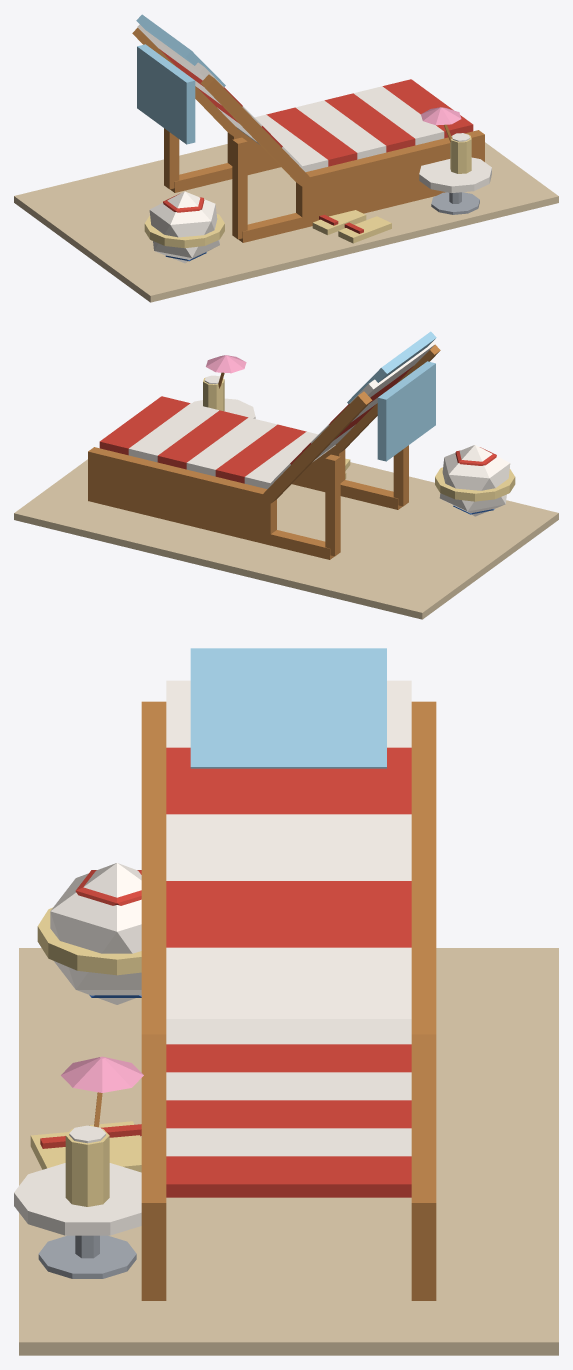
File: CatCafe_Decor_BeachChair.glb
The picture shows the model from 3 angles, top to bottom: view 1: azimuth 30°, elevation 25°; view 2: azimuth 150°, elevation 25°; view 3: azimuth 270°, elevation 25°; orthographic projection. The views are drawn at different scales.
Visible parts, largest first — view 1: CatCafe_Decor_BeachChair; view 2: CatCafe_Decor_BeachChair; view 3: CatCafe_Decor_BeachChair.
Part boxes in pixels (box(x1,y1,x2,y2)): CatCafe_Decor_BeachChair: box(14, 14, 558, 302); CatCafe_Decor_BeachChair: box(14, 331, 558, 619); CatCafe_Decor_BeachChair: box(14, 648, 558, 1355).
Bounding box in the file's own units: 3.8 × 1.77 × 2.22.
1 material, 1 textured.
